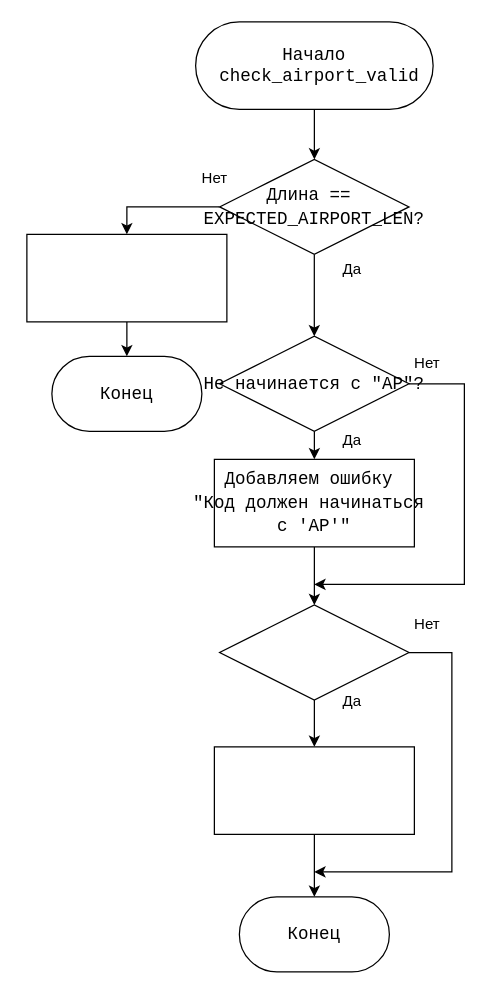
The diagram is 496 pixels wide and 994 high, and some of its shapes have lost their labels. The shapes that lost their labels are listed below. From the top down, each one's box as (x1, y1, x2, y2) in pixels, then its label:
(26, 233, 227, 322): Добавляем ошибку " Неправильная длина "
(218, 604, 409, 700): Последний символ не 1-3?
(213, 746, 414, 834): Добавляем ошибку "Последним должна быть цифра от 1 до 3 "
